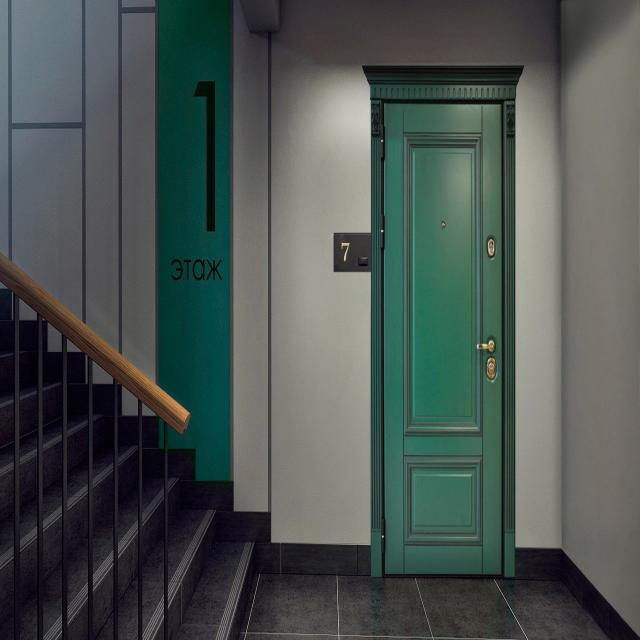close: (382, 106, 511, 580)
